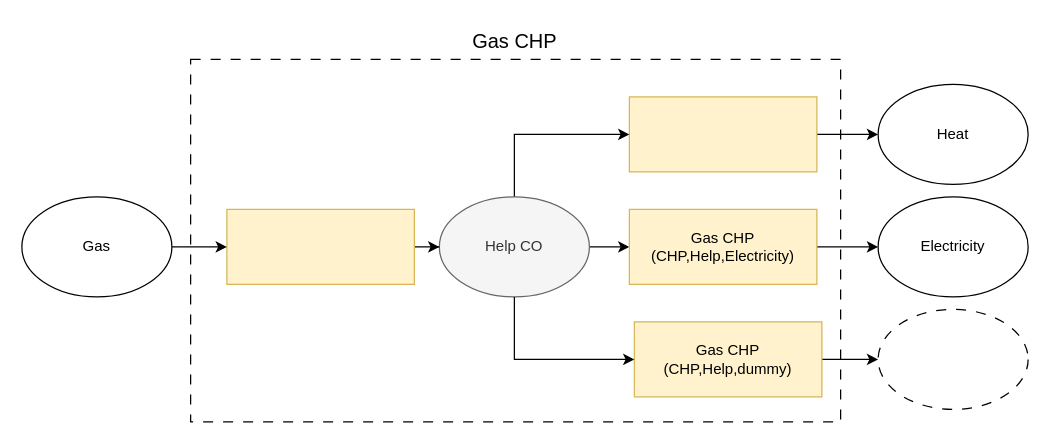
The diagram is 1050 pixels wide and 444 high, and some of its shapes have lost their labels. Here are the shapes that lost their labels. From the top down, the box of each, then its label:
(628, 96, 817, 172): Gas CHP (CHP,Help,Heat)
(226, 208, 414, 284): Gas CHP (CHP,Gas, Help CO)
(877, 308, 1028, 409): dummy
